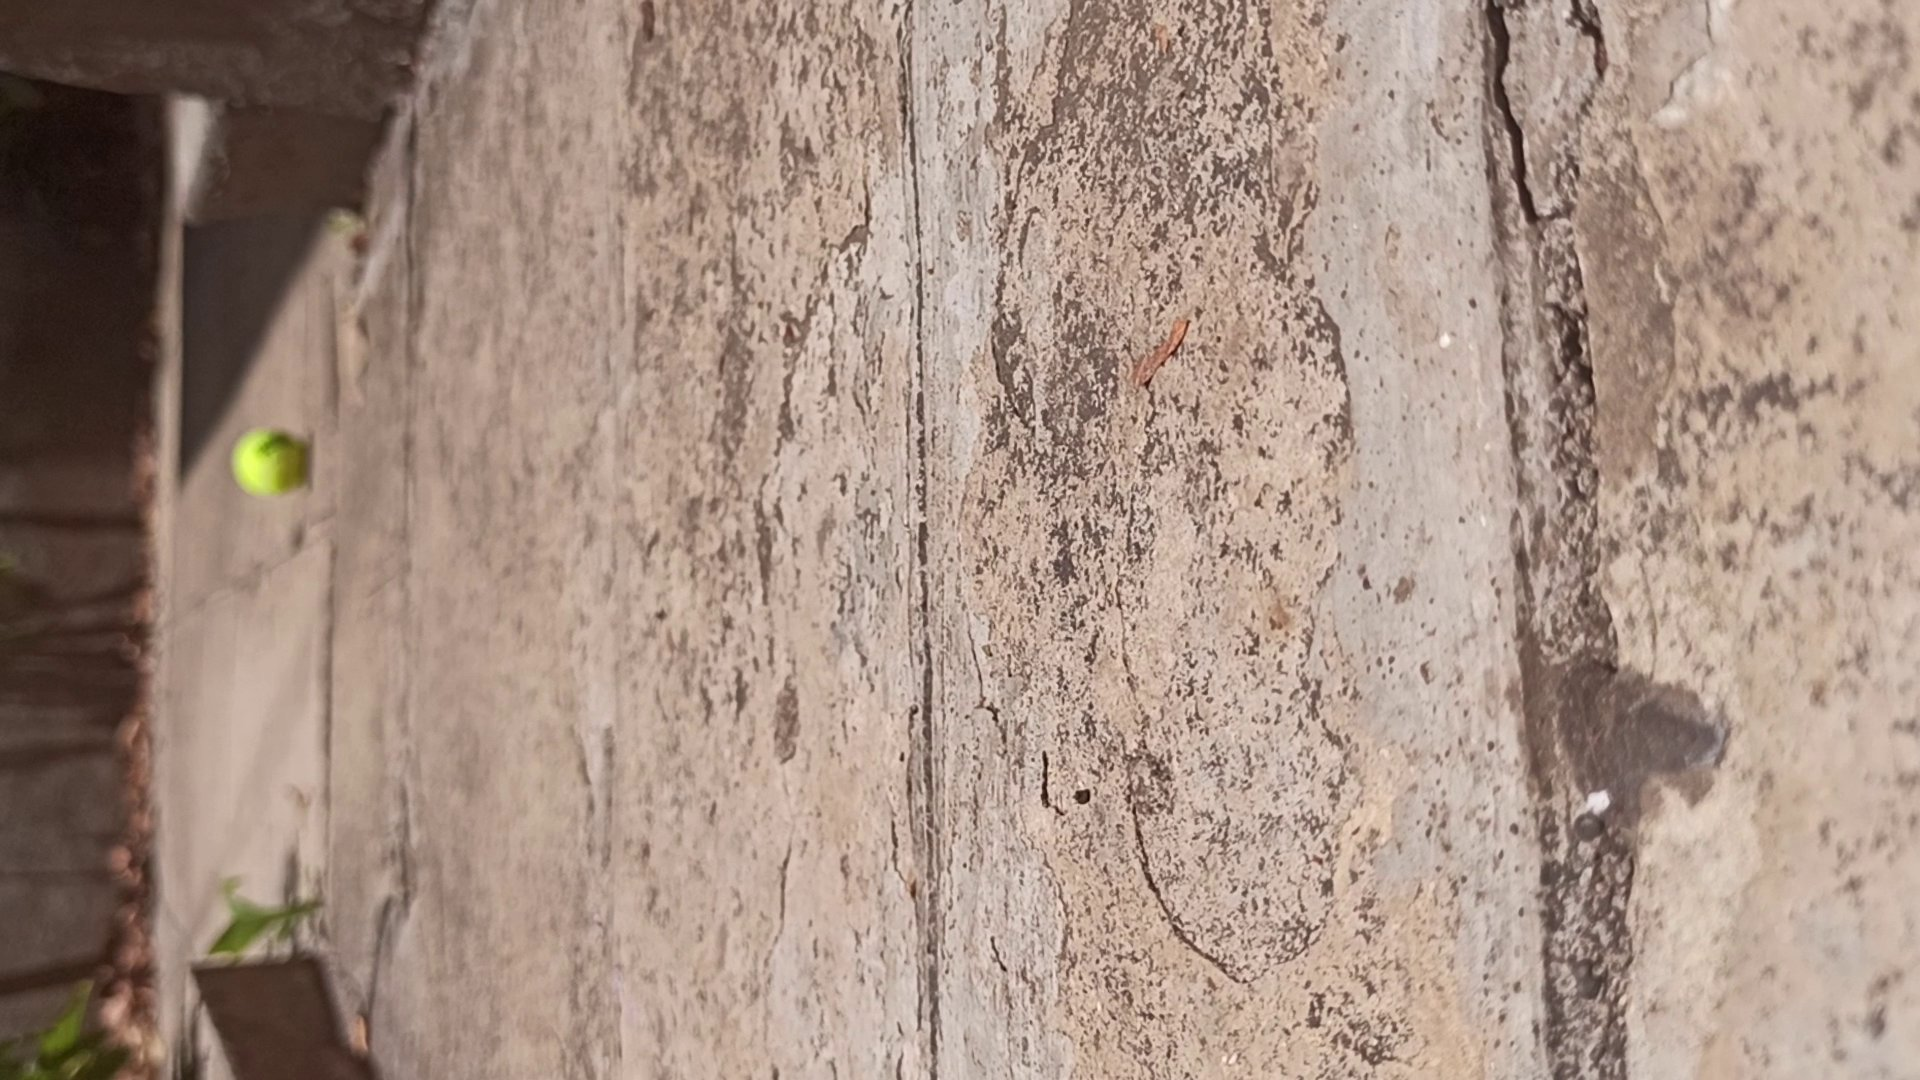Tennis-Ball: (231, 427, 306, 498)
